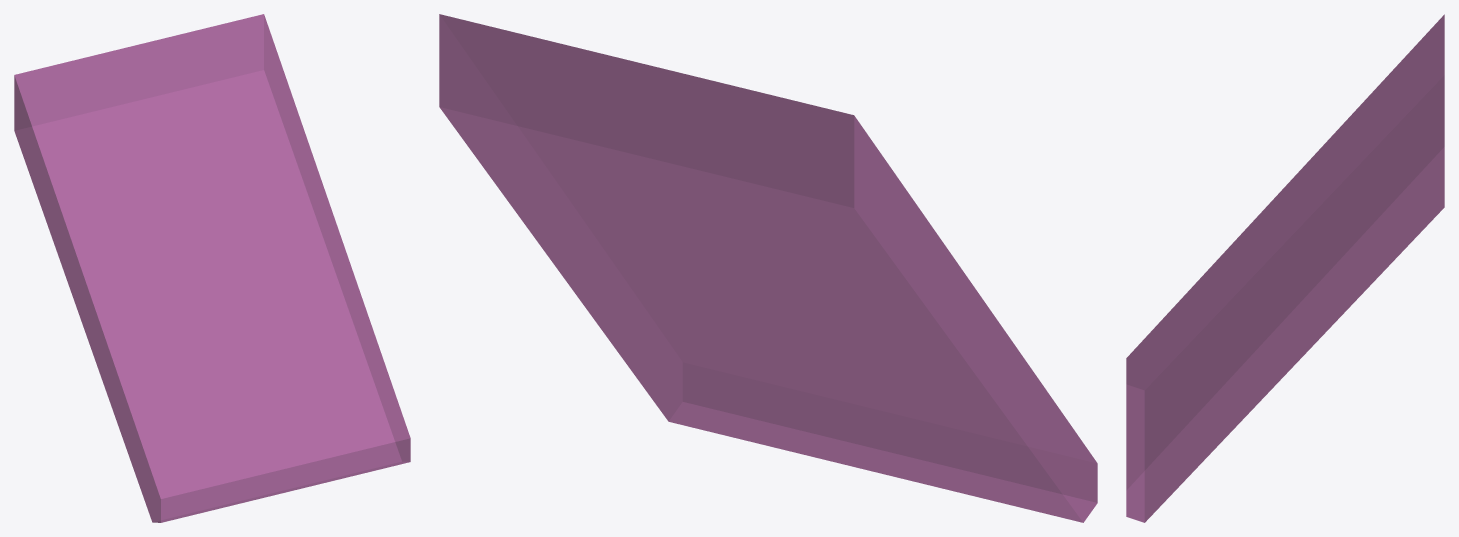
The model's file is SM_Bld_Roof_Ruin_Straight_03_Collision.fbx.
3 renders of one model, left to right at view 1: azimuth 30°, elevation 25°; view 2: azimuth 150°, elevation 25°; view 3: azimuth 270°, elevation 25°, orthographic. The views are drawn at different scales.
Visible parts, largest first — view 1: SM_Bld_Roof_Ruin_Straight_03_Collision; view 2: SM_Bld_Roof_Ruin_Straight_03_Collision; view 3: SM_Bld_Roof_Ruin_Straight_03_Collision.
Part boxes in pixels (x1,y1,x2,y2): SM_Bld_Roof_Ruin_Straight_03_Collision: (14, 14, 410, 522); SM_Bld_Roof_Ruin_Straight_03_Collision: (439, 14, 1097, 522); SM_Bld_Roof_Ruin_Straight_03_Collision: (1126, 14, 1444, 522).
Bounding box in the file's own units: 255 × 338 × 259.
